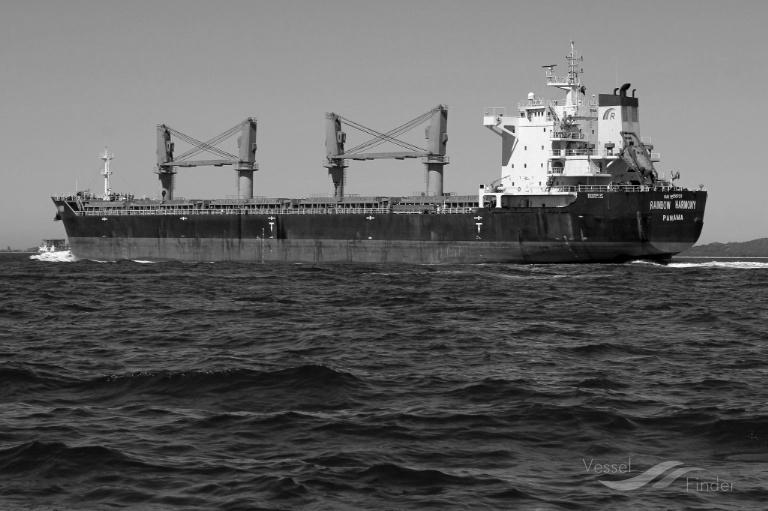OCR: (639, 191, 707, 232)
